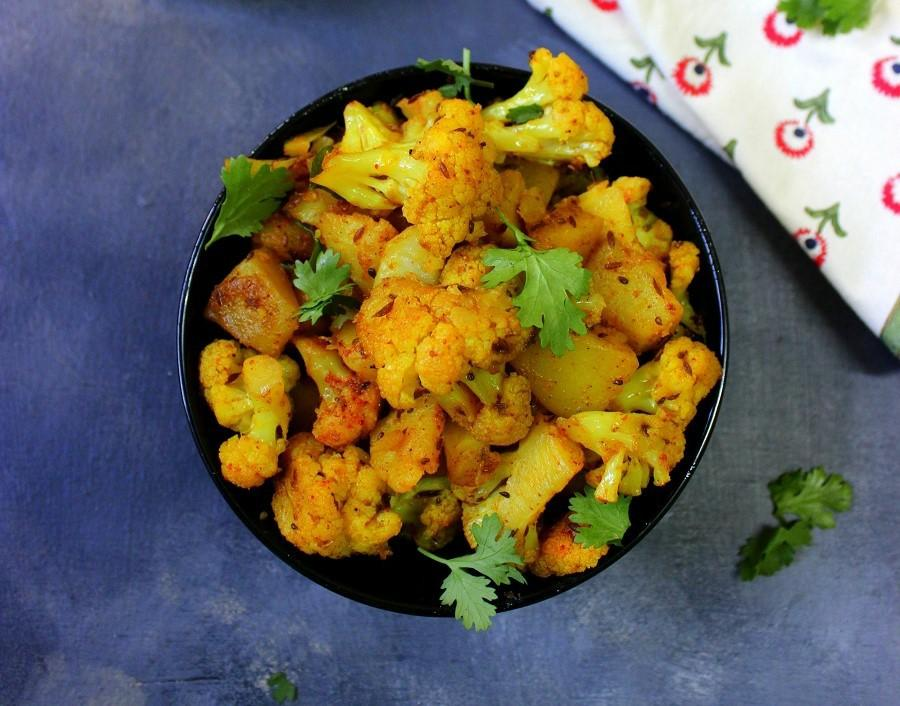AlooGobi: (200, 46, 724, 631)
